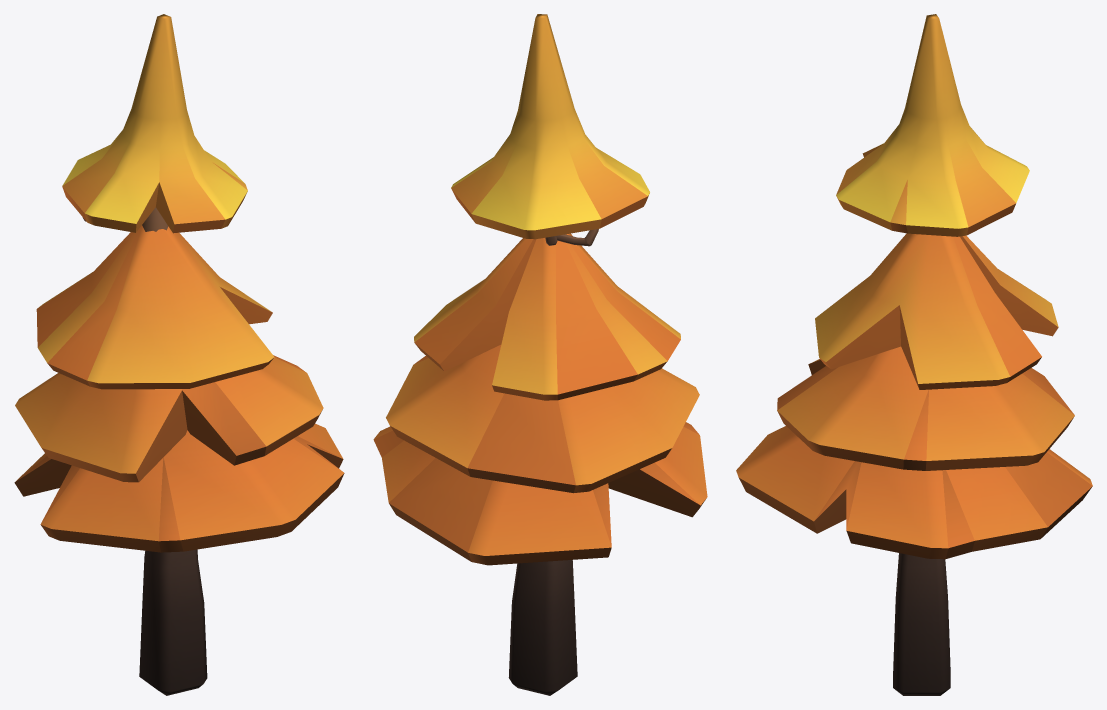
Rendered from pine_tree_col2_09.fbx.
3 renders of one model, left to right at view 1: azimuth 30°, elevation 25°; view 2: azimuth 150°, elevation 25°; view 3: azimuth 270°, elevation 25°, orthographic.
Parts seen in each view (by area): view 1: tree_pine_col2_09; view 2: tree_pine_col2_09; view 3: tree_pine_col2_09.
Boxes of the visible parts, left/top/right/bottom form: tree_pine_col2_09: left=14, top=14, right=344, bottom=695; tree_pine_col2_09: left=373, top=14, right=707, bottom=695; tree_pine_col2_09: left=736, top=14, right=1092, bottom=695.
Bounding box in the file's own units: 379 × 801 × 387.
Materials: 1 (1 with a texture image).
